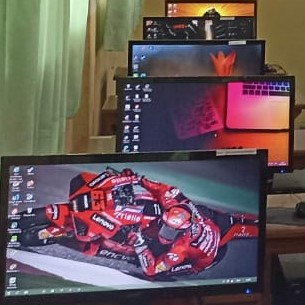monitor: (0, 149, 269, 299), (115, 75, 296, 174), (127, 40, 265, 78)
